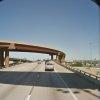Bridge: (4, 29, 70, 64)
